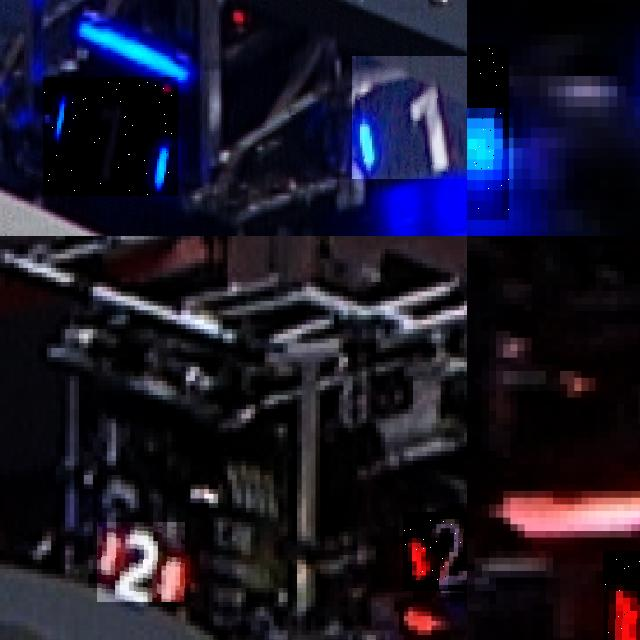B1: (43, 77, 178, 196), (351, 55, 467, 179)
B3: (467, 44, 509, 220)
R2: (98, 522, 186, 602), (403, 512, 467, 592)
